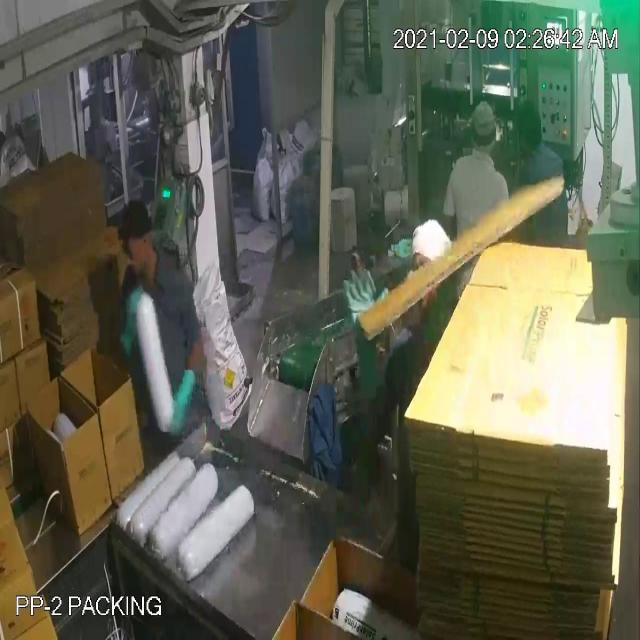Gloves: (32, 76, 365, 400)
